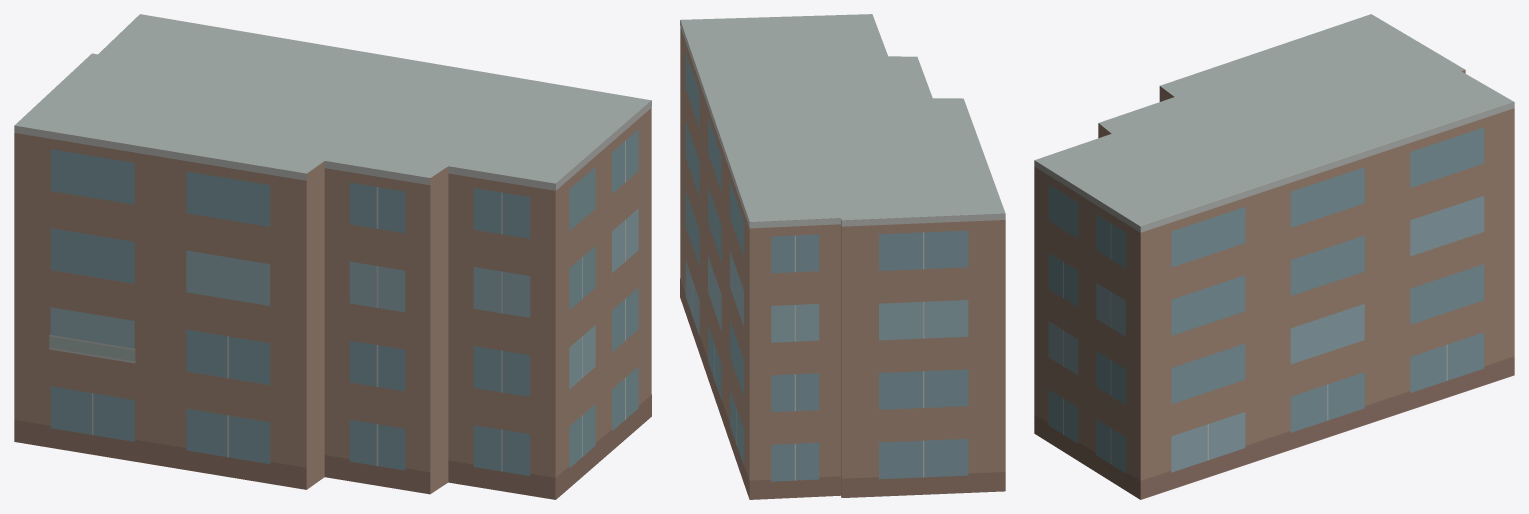
The model's file is survey-upis-32812416.glb.
3 renders of one model, left to right at view 1: azimuth 30°, elevation 25°; view 2: azimuth 150°, elevation 25°; view 3: azimuth 270°, elevation 25°, orthographic. The views are drawn at different scales.
Visible parts, largest first — view 1: survey-upis-32812416.tmp; view 2: survey-upis-32812416.tmp; view 3: survey-upis-32812416.tmp.
Boxes of the visible parts, left/top/right/bottom form: survey-upis-32812416.tmp: left=14, top=14, right=651, bottom=499; survey-upis-32812416.tmp: left=680, top=14, right=1005, bottom=499; survey-upis-32812416.tmp: left=1034, top=14, right=1514, bottom=499.
Size of the model in its own units: 17.85 by 10.7 by 17.04.
